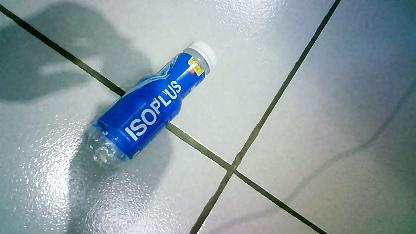Plastic Bottle: (80, 37, 219, 177)
